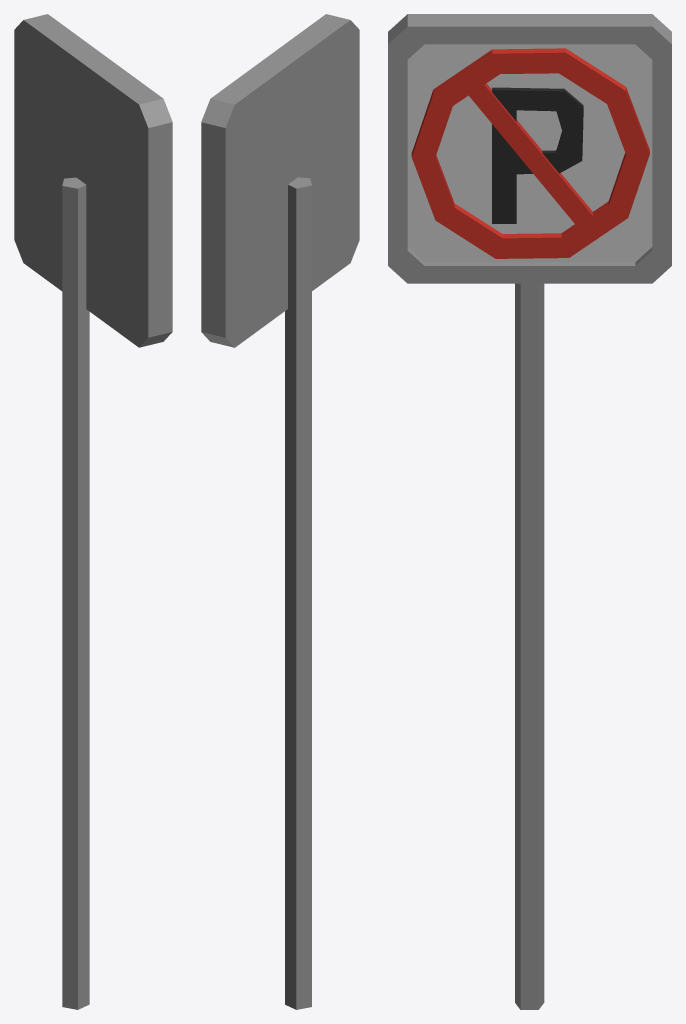
File: Sign_NoParking.glb
3 views of the same model, side by side, from view 1: azimuth 30°, elevation 25°; view 2: azimuth 150°, elevation 25°; view 3: azimuth 270°, elevation 25° (orthographic). The views are drawn at different scales.
Parts seen in each view (by area): view 1: Parking_Cylinder.002; view 2: Parking_Cylinder.002; view 3: Parking_Cylinder.002.
Boxes of the visible parts, x1,y1,x2,y2 form: Parking_Cylinder.002: [14, 14, 172, 1009]; Parking_Cylinder.002: [201, 14, 359, 1009]; Parking_Cylinder.002: [388, 14, 671, 1009].
Bounding box in the file's own units: 0.0269 × 0.5388 × 0.1394.
